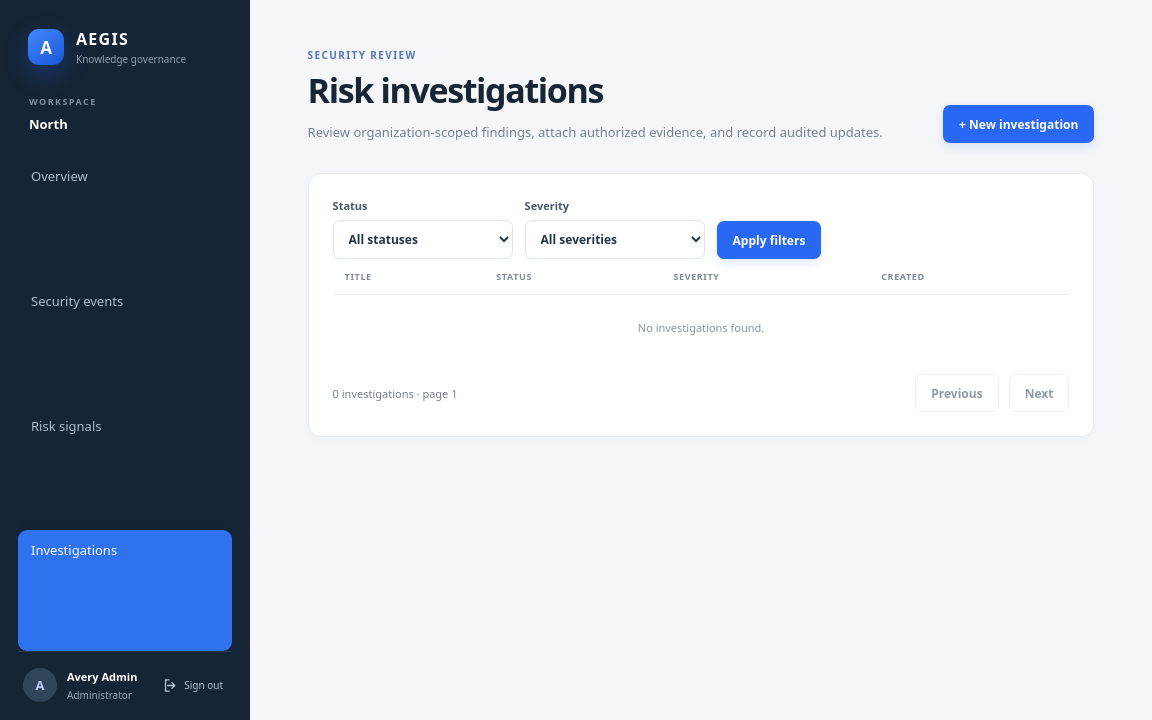
risk investigation workflow › shows API validation failures without reporting a successful creation
Click the button "+ New investigation" at (1019, 124), box [943,105,1094,143]
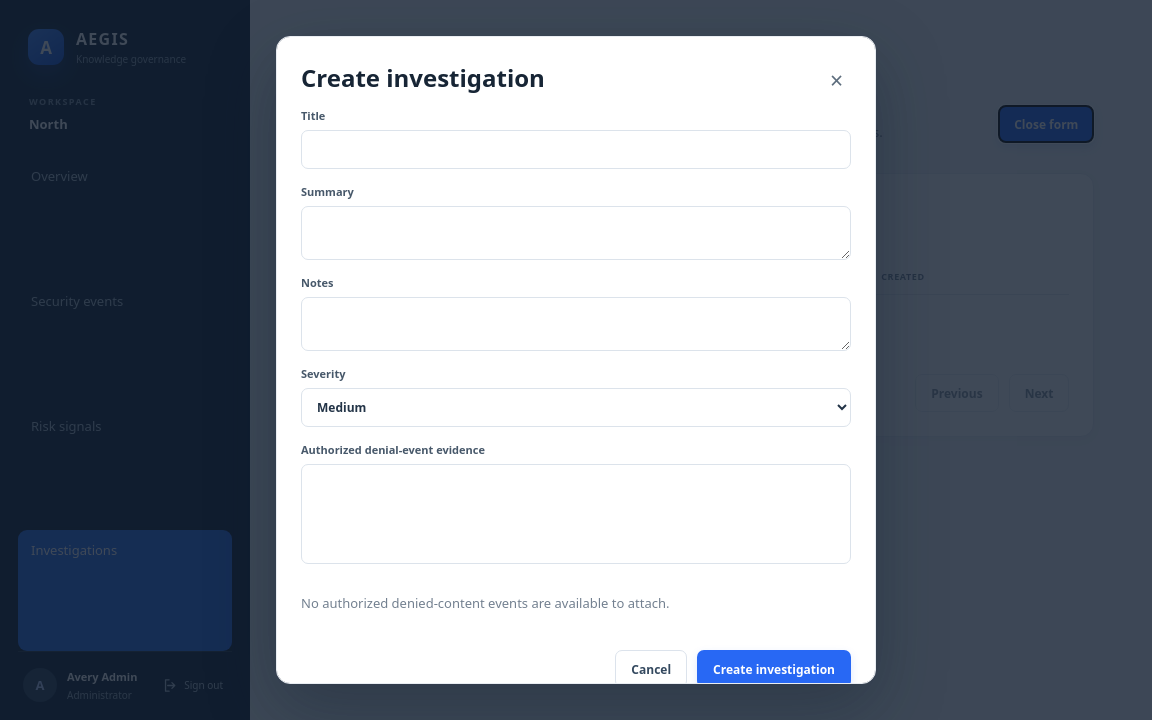
Type "Invalid case" into the field labelled "Title" at (576, 150), box [301,130,851,169]
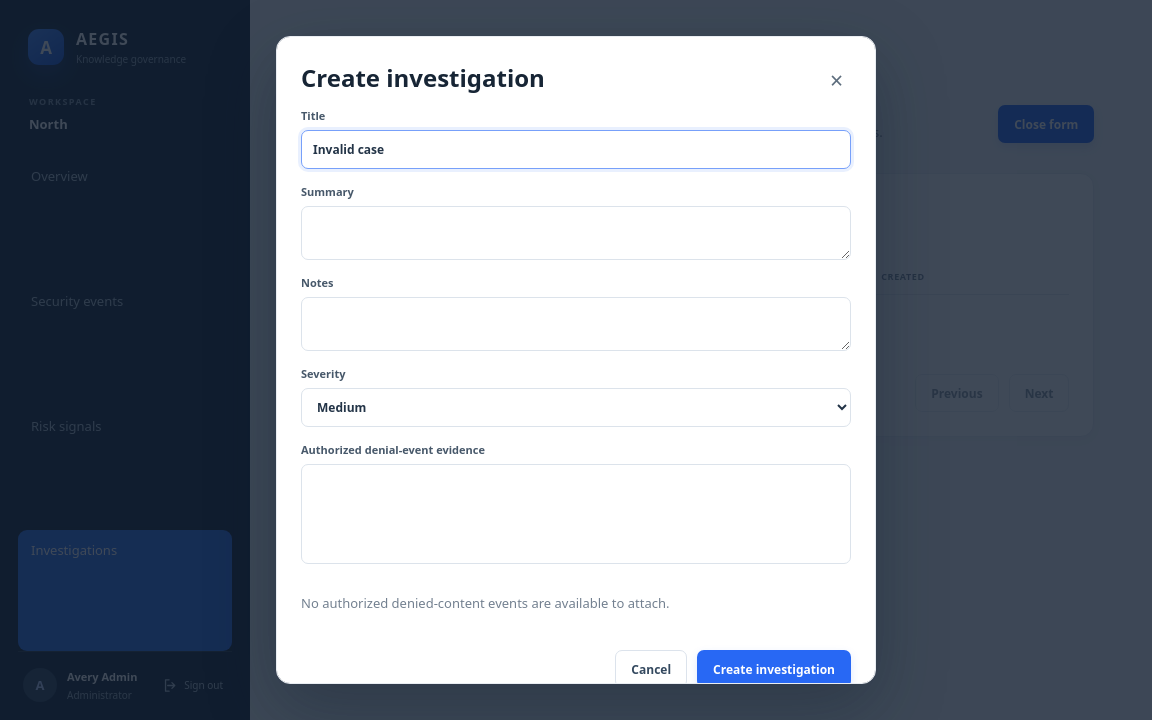
Click the button "Create investigation" at (774, 669), box [697,650,851,688]
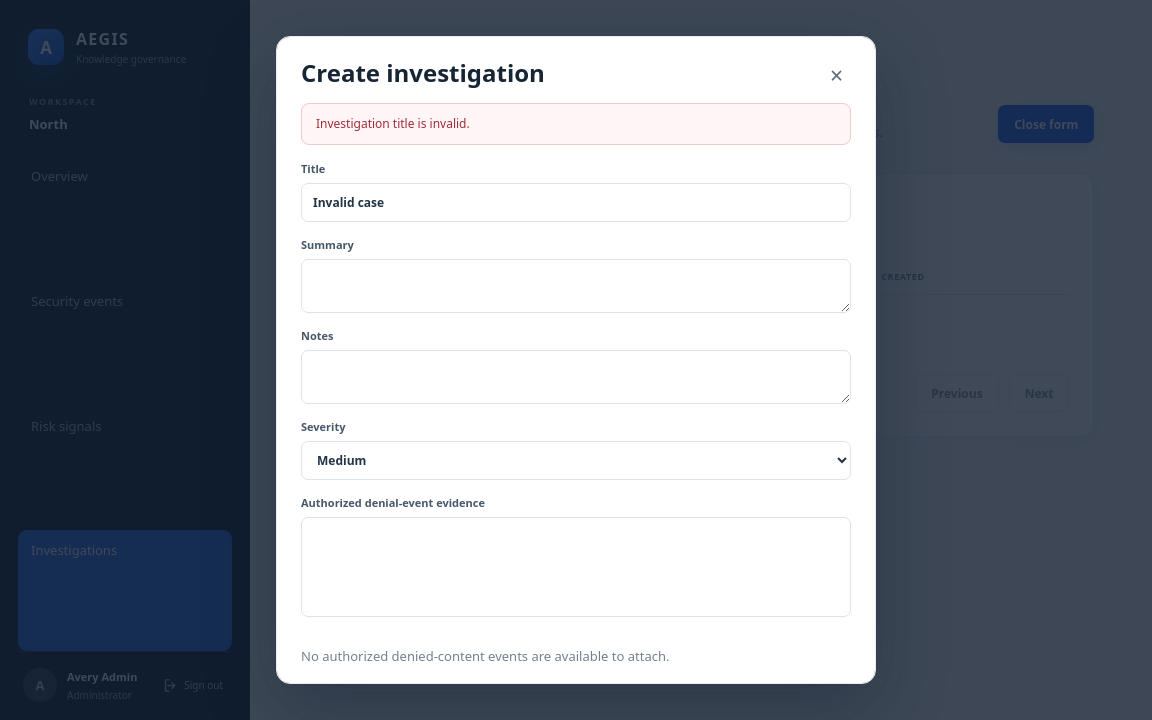
Now the message reads "Investigation title is invalid.", box [316,115,470,132]
